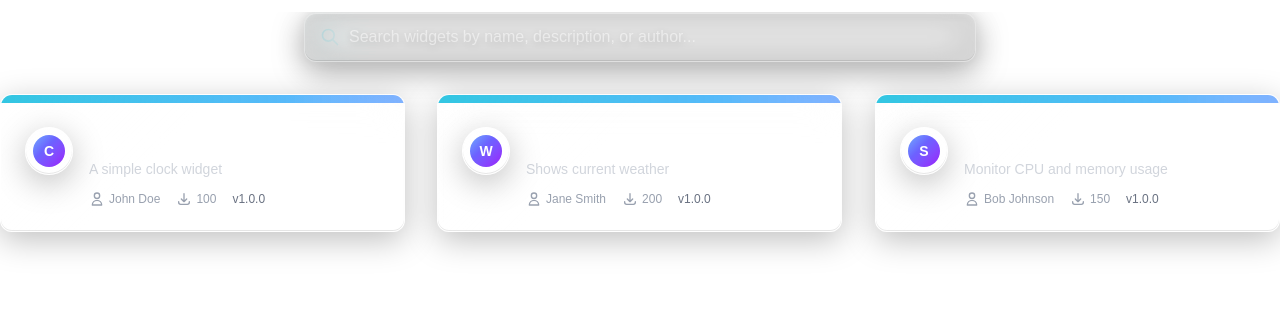
WidgetGallery › should show results count when searching
Type "widget" into the search field with placeholder "Search widgets by name, description, or author..." at (640, 37), box [304,12,976,62]
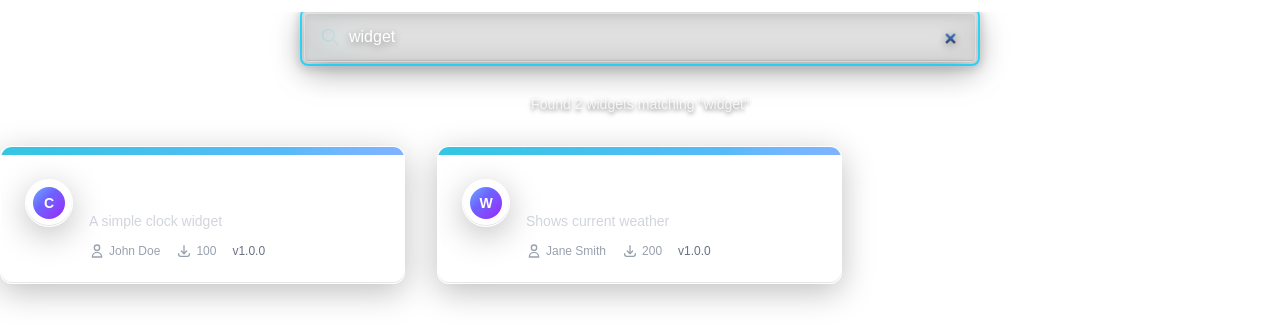
Check: the text "Found 2 widgets matching \"widget\"" is shown, box [531,96,749,112]
